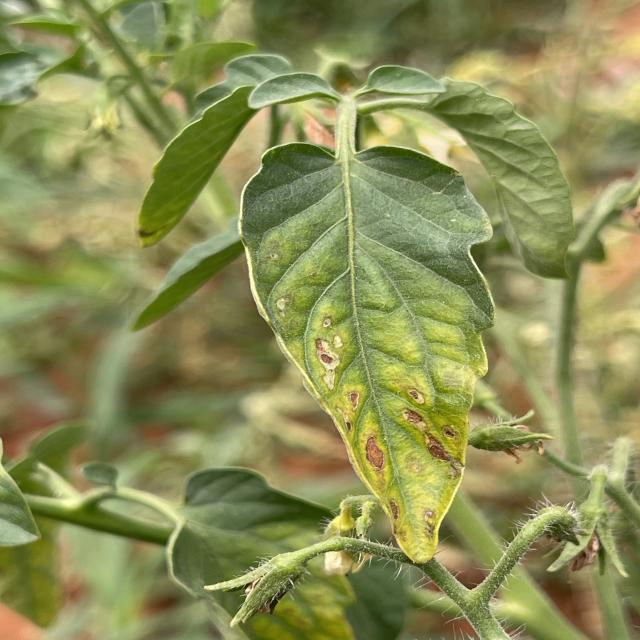tomato_early blight: (244, 141, 499, 561), (229, 545, 362, 640)
